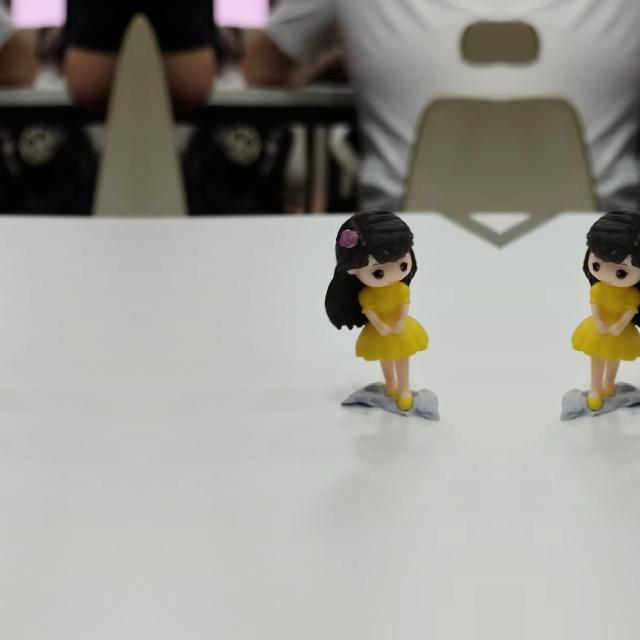woman head: (327, 208, 417, 288), (583, 207, 640, 288)
